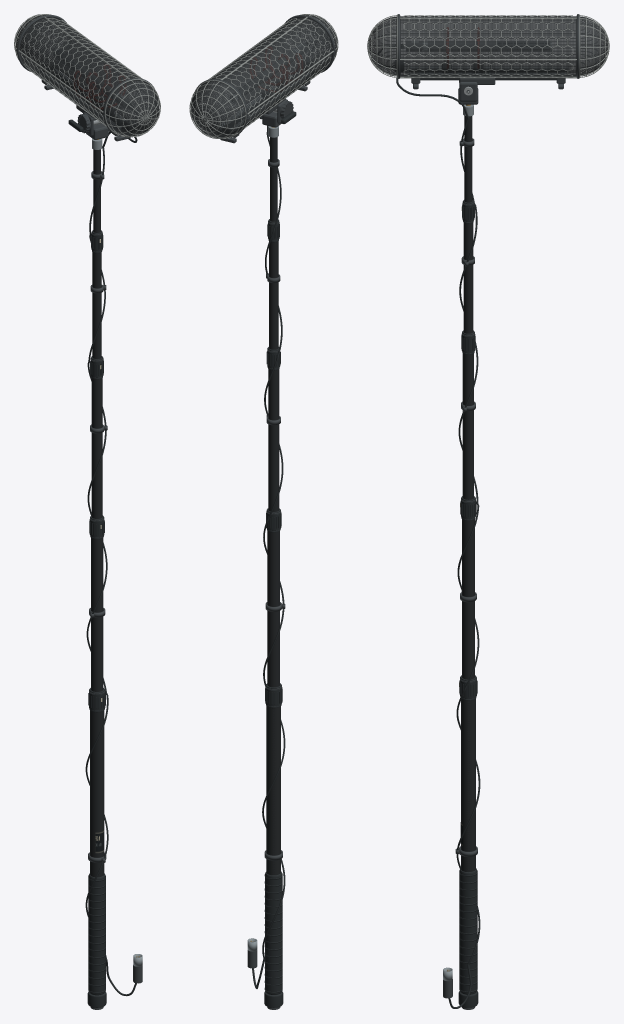
File: B05_Boom_Microphone_Kit.glb
3 renders of one model, left to right at view 1: azimuth 30°, elevation 25°; view 2: azimuth 150°, elevation 25°; view 3: azimuth 270°, elevation 25°, orthographic. The views are drawn at different scales.
Visible parts, largest first — view 1: Basket | fine acoustic gauze backing, Basket | continuous hexagonal barrel lattice, Pole 1 | hollow carbon section, Grip | cushioned lower sleeve, Pole 2 | hollow carbon section, Pole 3 | hollow carbon section, Cable | external loose coiled boom lead, Pole 4 | hollow carbon section, Pole 5 | hollow carbon section; view 2: Basket | fine acoustic gauze backing, Basket | continuous hexagonal barrel lattice, Pole 1 | hollow carbon section, Grip | cushioned lower sleeve, Pole 2 | hollow carbon section, Pole 3 | hollow carbon section, Cable | external loose coiled boom lead, Pole 4 | hollow carbon section, Pole 5 | hollow carbon section; view 3: Basket | fine acoustic gauze backing, Basket | continuous hexagonal barrel lattice, Pole 1 | hollow carbon section, Grip | cushioned lower sleeve, Pole 2 | hollow carbon section, Pole 3 | hollow carbon section, Cable | external loose coiled boom lead, Pole 4 | hollow carbon section, Pole 5 | hollow carbon section.
Part boxes in pixels (box(x1,y1,x2,y2)): Basket | fine acoustic gauze backing: box(15, 15, 159, 136); Basket | continuous hexagonal barrel lattice: box(20, 17, 142, 126); Pole 1 | hollow carbon section: box(90, 711, 104, 877); Grip | cushioned lower sleeve: box(88, 873, 105, 995); Pole 2 | hollow carbon section: box(91, 538, 103, 691); Pole 3 | hollow carbon section: box(91, 378, 102, 518); Cable | external loose coiled boom lead: box(85, 147, 108, 959); Pole 4 | hollow carbon section: box(92, 252, 101, 358); Pole 5 | hollow carbon section: box(93, 149, 100, 232); Basket | fine acoustic gauze backing: box(191, 15, 336, 137); Basket | continuous hexagonal barrel lattice: box(208, 18, 331, 128); Pole 1 | hollow carbon section: box(266, 706, 280, 875); Grip | cushioned lower sleeve: box(265, 871, 282, 994); Pole 2 | hollow carbon section: box(267, 531, 279, 687); Pole 3 | hollow carbon section: box(268, 369, 279, 511); Cable | external loose coiled boom lead: box(262, 134, 285, 958); Pole 4 | hollow carbon section: box(269, 241, 278, 349); Pole 5 | hollow carbon section: box(270, 137, 277, 221); Basket | fine acoustic gauze backing: box(369, 16, 607, 76); Basket | continuous hexagonal barrel lattice: box(403, 15, 573, 77); Pole 1 | hollow carbon section: box(461, 699, 475, 871); Grip | cushioned lower sleeve: box(459, 868, 477, 994); Pole 2 | hollow carbon section: box(462, 519, 474, 679); Pole 3 | hollow carbon section: box(462, 353, 473, 499); Cable | external loose coiled boom lead: box(456, 118, 480, 964); Pole 4 | hollow carbon section: box(463, 223, 473, 333); Pole 5 | hollow carbon section: box(464, 116, 472, 202).
Size of the model in its own units: 0.1489 by 2.18 by 0.4838.
13 materials, 4 textured.
